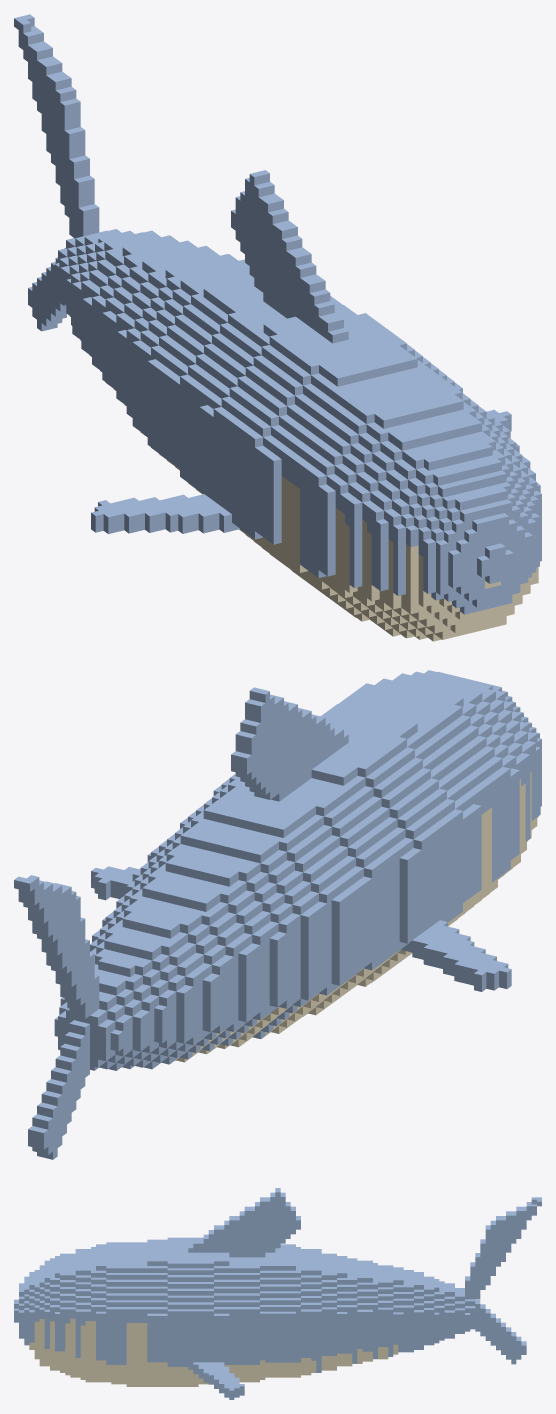
File: shark_plushie.glb
3 views of the same model, one above another, from view 1: azimuth 30°, elevation 25°; view 2: azimuth 150°, elevation 25°; view 3: azimuth 270°, elevation 25° (orthographic). The views are drawn at different scales.
Parts seen in each view (by area): view 1: shark_plushie:compound; view 2: shark_plushie:compound; view 3: shark_plushie:compound.
Boxes of the visible parts, x1,y1,x2,y2 form: shark_plushie:compound: (14,14,541,641); shark_plushie:compound: (14,670,541,1159); shark_plushie:compound: (14,1188,541,1399).
Size of the model in its own units: 0.52 by 0.4 by 1.03.
